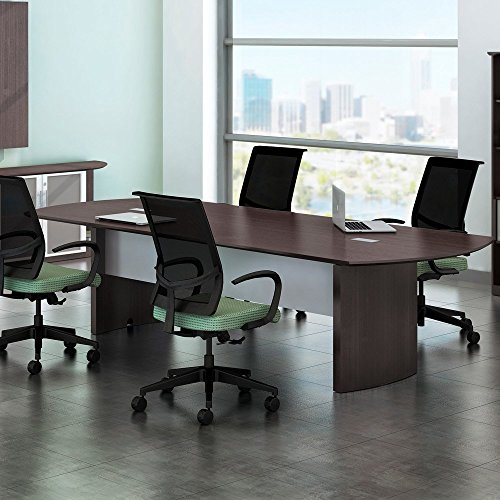conference_table: (33, 197, 497, 394)
